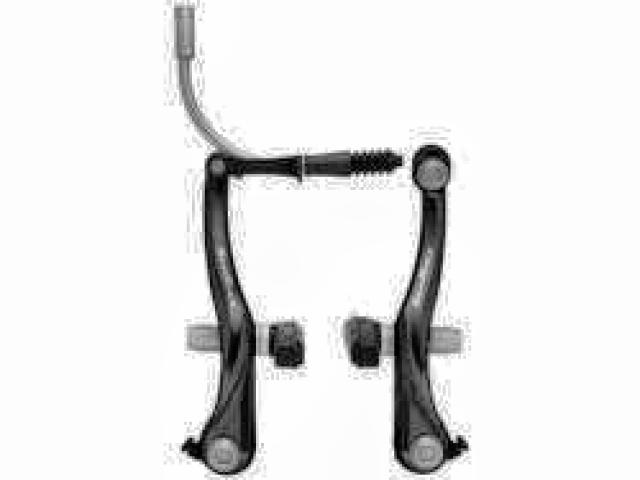rim_brake: (184, 147, 470, 477)
